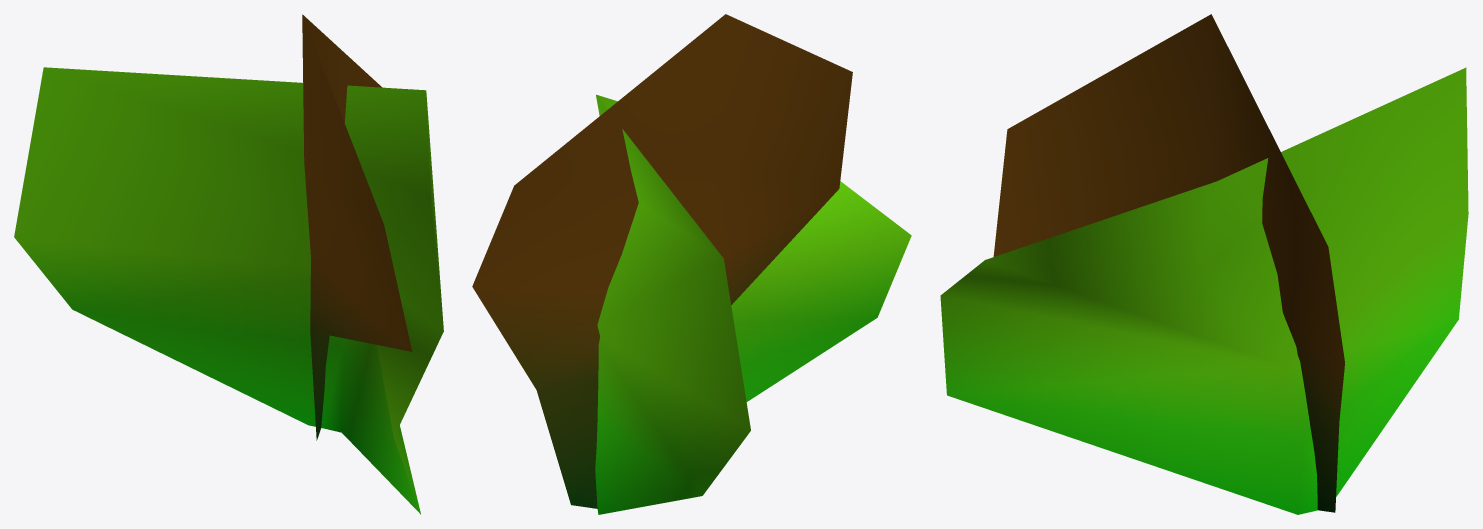
The model's file is Var1Hi38.fbx.
3 views of the same model, side by side, from view 1: azimuth 30°, elevation 25°; view 2: azimuth 150°, elevation 25°; view 3: azimuth 270°, elevation 25° (orthographic). The views are drawn at different scales.
Parts seen in each view (by area): view 1: bend1; view 2: bend1; view 3: bend1.
Part boxes in pixels (box(x1,y1,x2,y2)): bend1: box(14, 14, 443, 514); bend1: box(472, 14, 911, 514); bend1: box(940, 14, 1468, 514).
Size of the model in its own units: 1.04 by 1.39 by 1.42.
